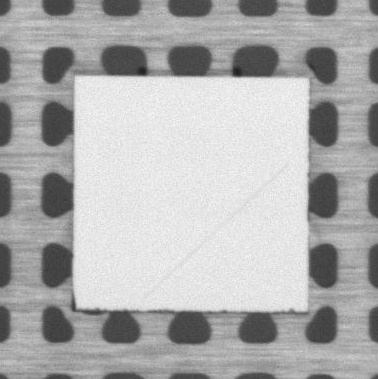DIE_CRACK: (143, 163, 288, 300)
